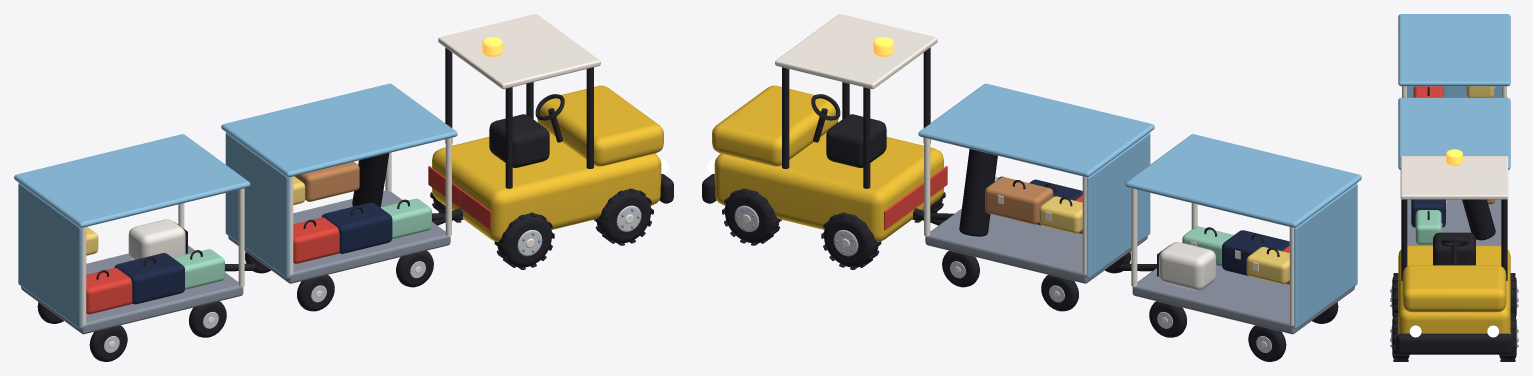
The model's file is baggage_tug.glb.
3 renders of one model, left to right at view 1: azimuth 30°, elevation 25°; view 2: azimuth 150°, elevation 25°; view 3: azimuth 270°, elevation 25°, orthographic. The views are drawn at different scales.
Visible parts, largest first — view 1: baggage_tug; view 2: baggage_tug; view 3: baggage_tug.
Boxes of the visible parts, left/top/right/bottom form: baggage_tug: left=14, top=14, right=673, bottom=361; baggage_tug: left=702, top=14, right=1361, bottom=361; baggage_tug: left=1390, top=14, right=1518, bottom=361.
Size of the model in its own units: 6.64 by 2.14 by 1.49.
1 material, 1 textured.
